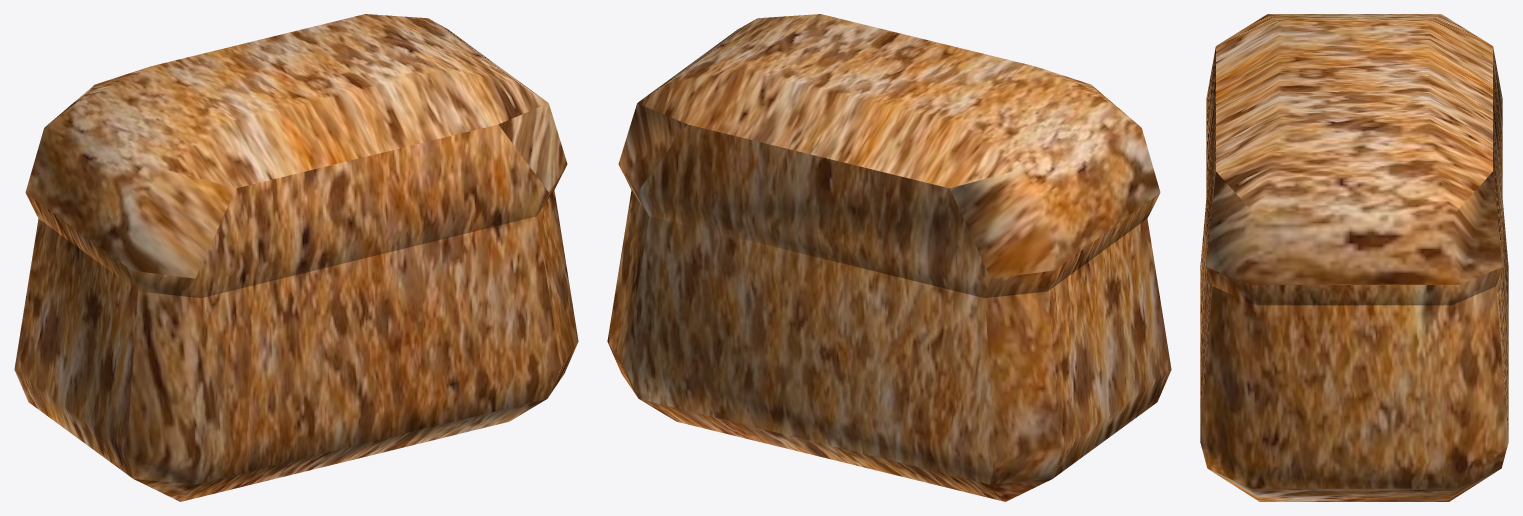
Rendered from Bedroom_bread.glb.
3 views of the same model, side by side, from view 1: azimuth 30°, elevation 25°; view 2: azimuth 150°, elevation 25°; view 3: azimuth 270°, elevation 25° (orthographic). The views are drawn at different scales.
Parts seen in each view (by area): view 1: Cube.031; view 2: Cube.031; view 3: Cube.031.
Boxes of the visible parts, x1,y1,x2,y2 form: Cube.031: [14, 14, 578, 501]; Cube.031: [607, 14, 1171, 501]; Cube.031: [1200, 14, 1508, 501].
Bounding box in the file's own units: 0.6547 × 0.4955 × 0.395.
Materials: 1 (1 with a texture image).
